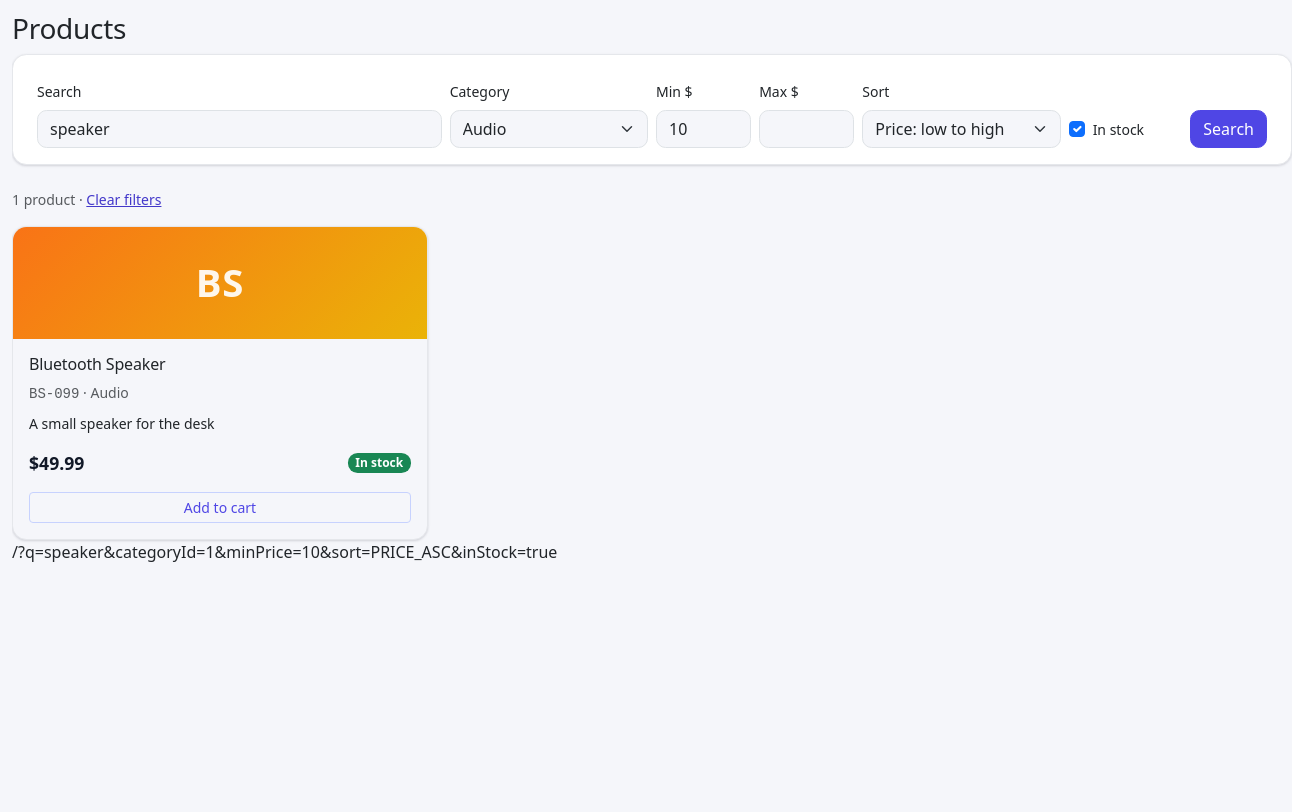
it: ShopPage › empties the form when the filters are cleared
This screenshot has width=1292, height=812.
Step 1. Click the link "Clear filters" → (124, 199), box left=86, top=190, right=161, bottom=209
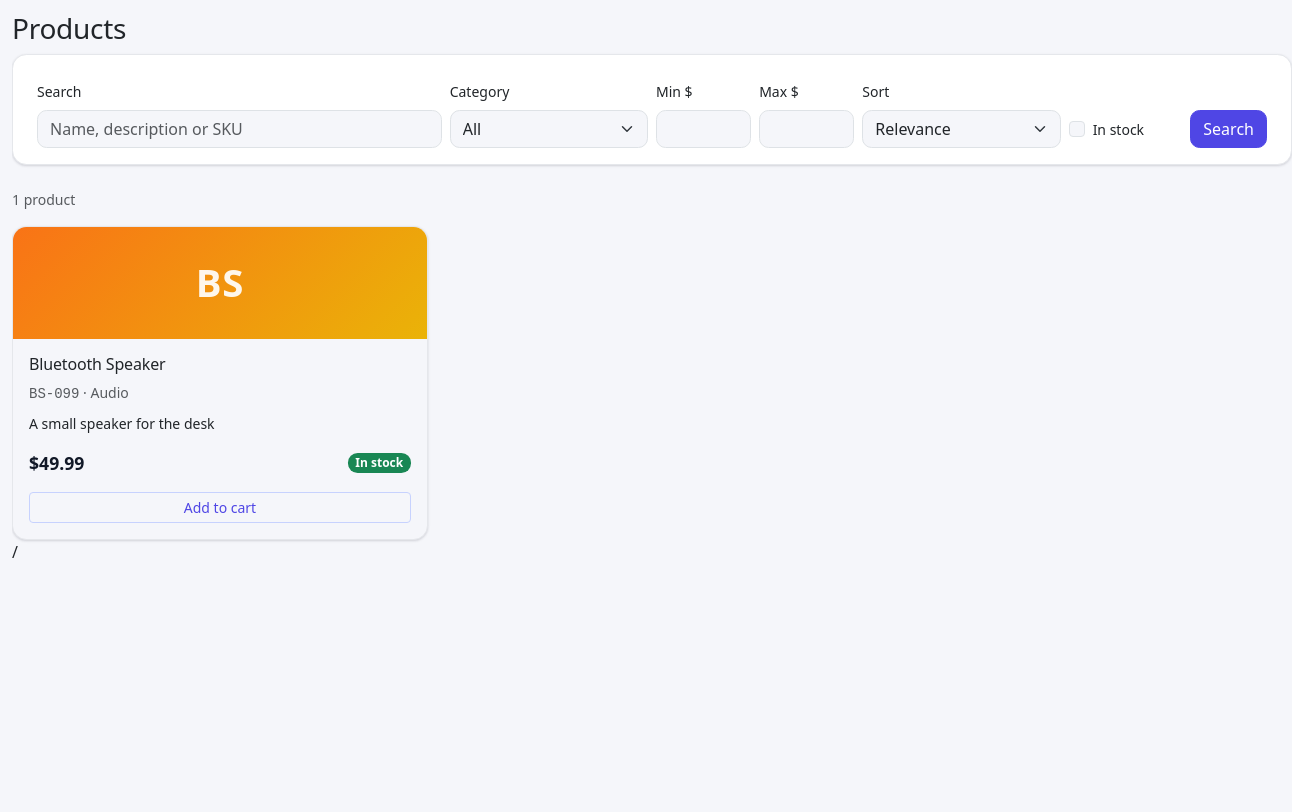
Expected: the field labelled "Search" is empty, left=37, top=110, right=442, bottom=148
Expected: the dropdown labelled "Category" shows "All", left=450, top=110, right=648, bottom=148
Expected: the number field labelled "Min $" is not empty, left=656, top=110, right=751, bottom=148
